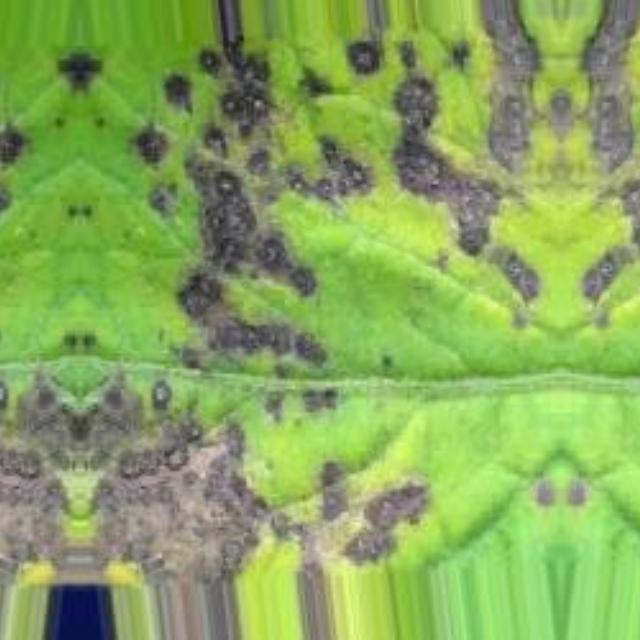Septoria_Blight: (78, 0, 383, 368), (79, 366, 448, 570), (389, 0, 555, 300), (0, 0, 79, 368), (566, 0, 640, 300), (0, 365, 79, 570)
